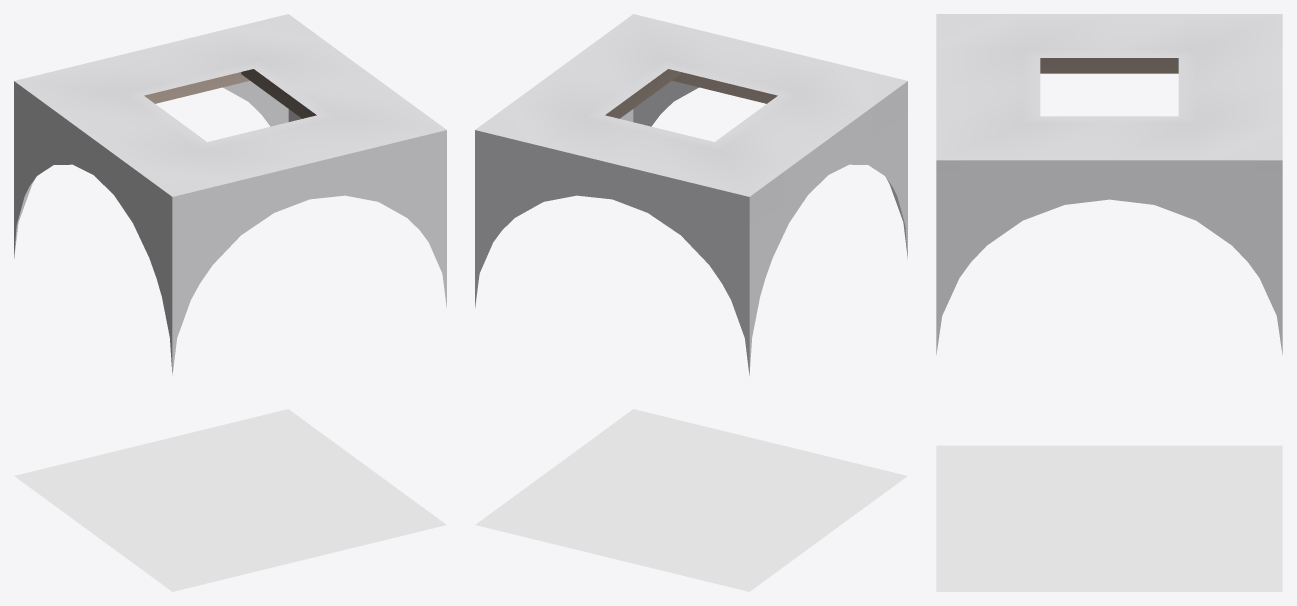
File: grav_luke.glb
3 views of the same model, side by side, from view 1: azimuth 30°, elevation 25°; view 2: azimuth 150°, elevation 25°; view 3: azimuth 270°, elevation 25° (orthographic). The views are drawn at different scales.
Visible parts, largest first — view 1: far, grav_luke; view 2: far, grav_luke; view 3: far, grav_luke.
Part boxes in pixels (left/top/right/bottom): far: left=14, top=14, right=446, bottom=591; grav_luke: left=241, top=69, right=316, bottom=118; far: left=475, top=14, right=907, bottom=591; grav_luke: left=605, top=69, right=680, bottom=118; far: left=936, top=14, right=1282, bottom=591; grav_luke: left=1040, top=58, right=1178, bottom=73.
Size of the model in its own units: 4 by 5.5 by 4.
